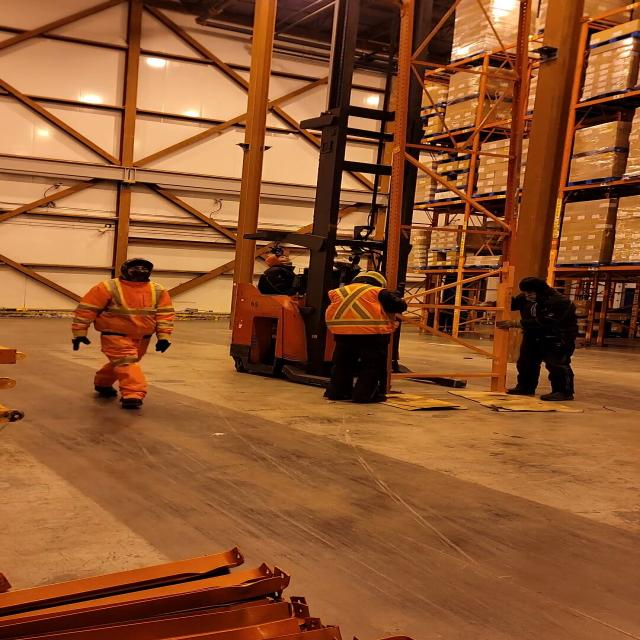forklift: (228, 112, 480, 403)
human: (70, 255, 178, 414), (318, 268, 411, 403), (492, 277, 587, 402), (256, 253, 330, 296)
objectofinterest: (374, 6, 518, 407), (448, 388, 583, 414), (355, 388, 463, 412)
